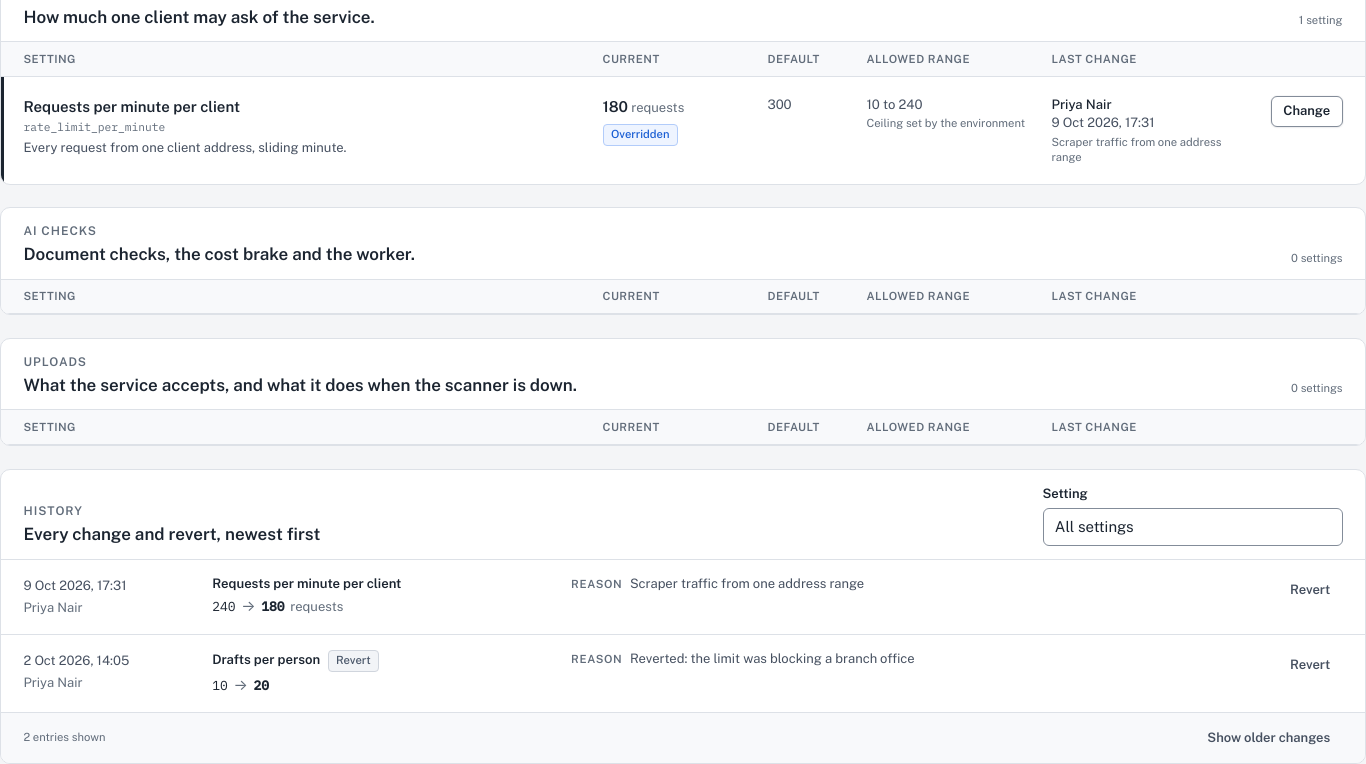
admin settings page (US-101) › history › does not check a revert to the default against the bounds
(page scrolled)
Click the button with aria-label "Revert Requests per minute per client change".
click(1310, 591)  # box 1278,575 -> 1342,607
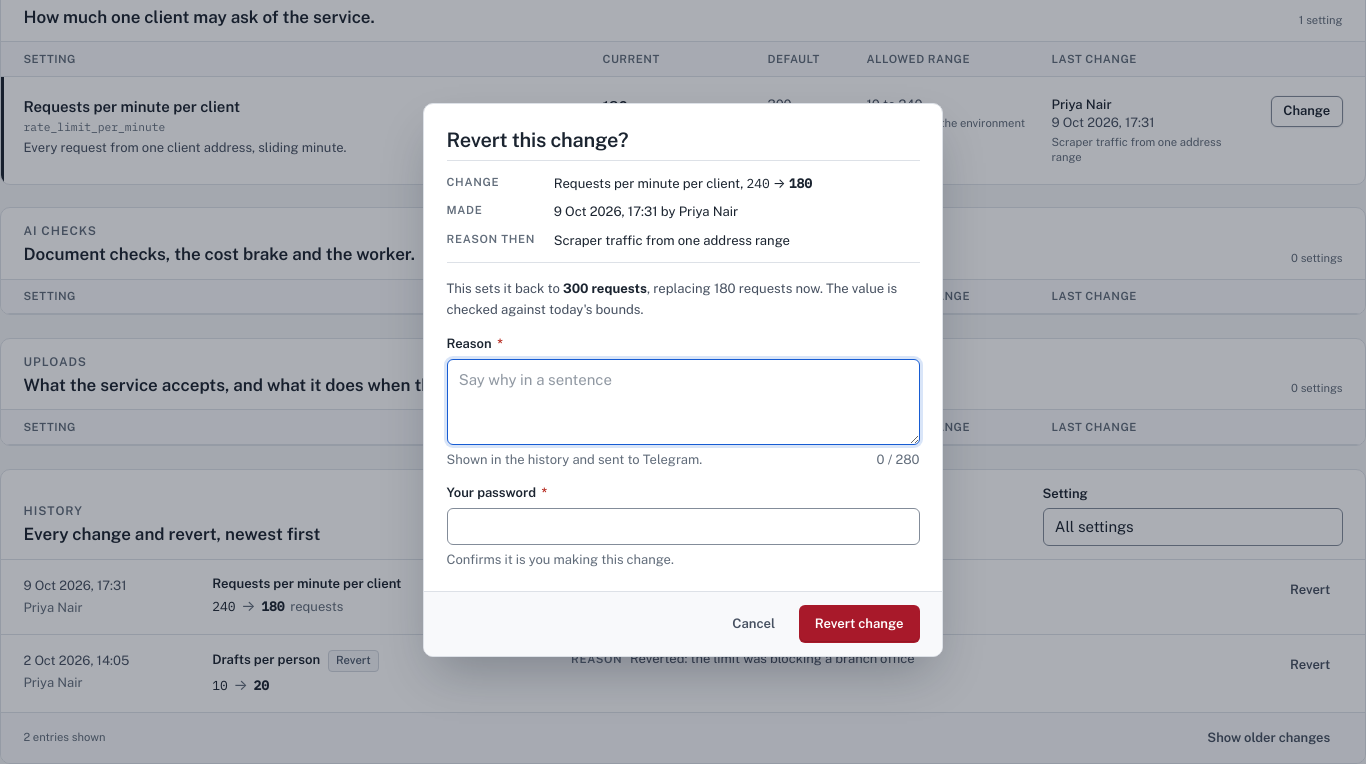
Check: the dialog "Revert this change?" shows "This sets it back to 300 requests", box 423,103 -> 943,657
